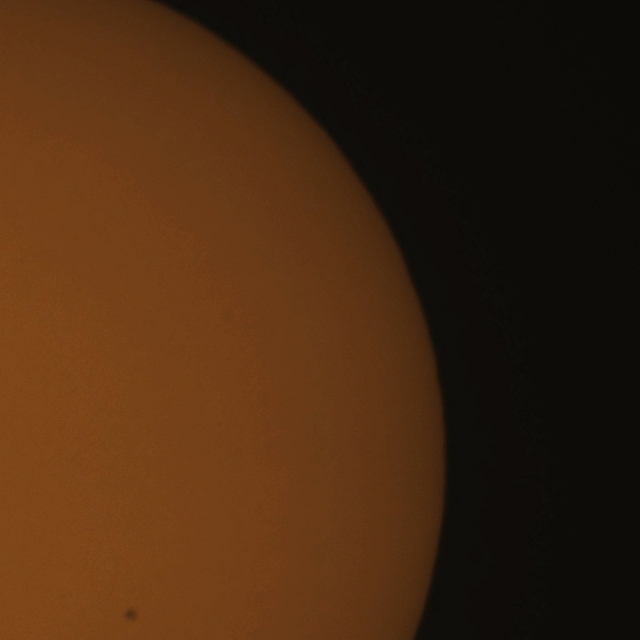sunspot: (123, 606, 140, 624)
